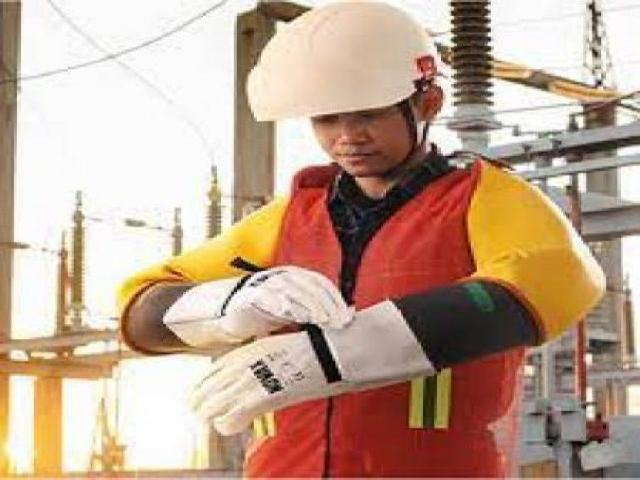Hand-in-Glove: (171, 288, 420, 447), (168, 265, 350, 359)
